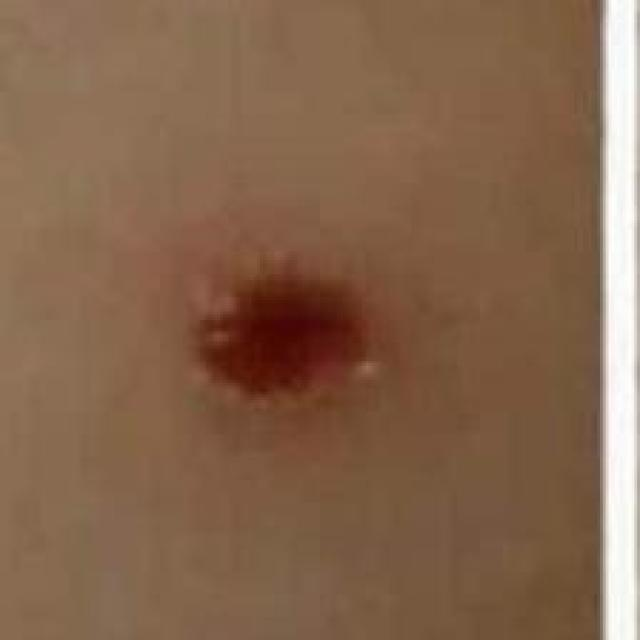others: (6, 7, 580, 640)
